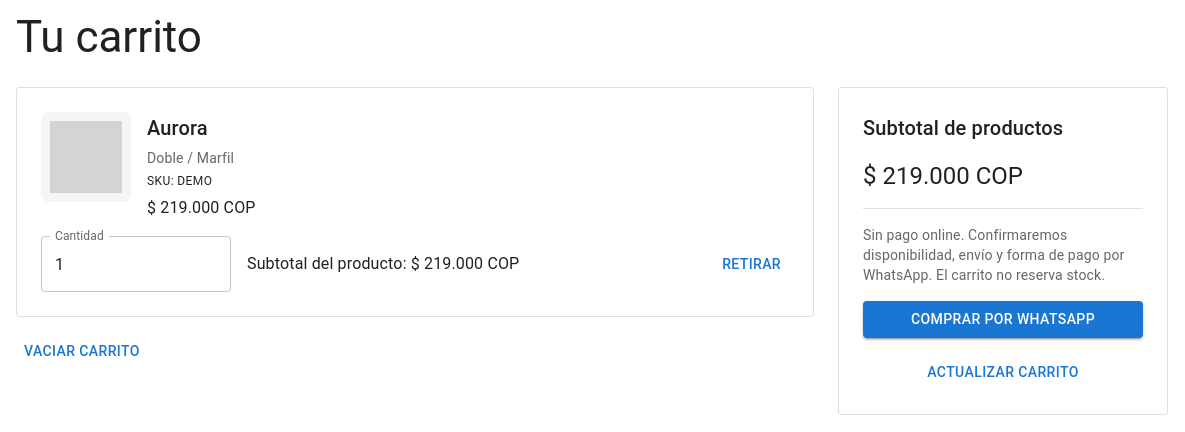
Test: guest cart UI and persistence › requires fixing invalid quantity drafts before preparing a message
Replace the text in the number field with "0" at (136, 264), box [41,236,231,292]
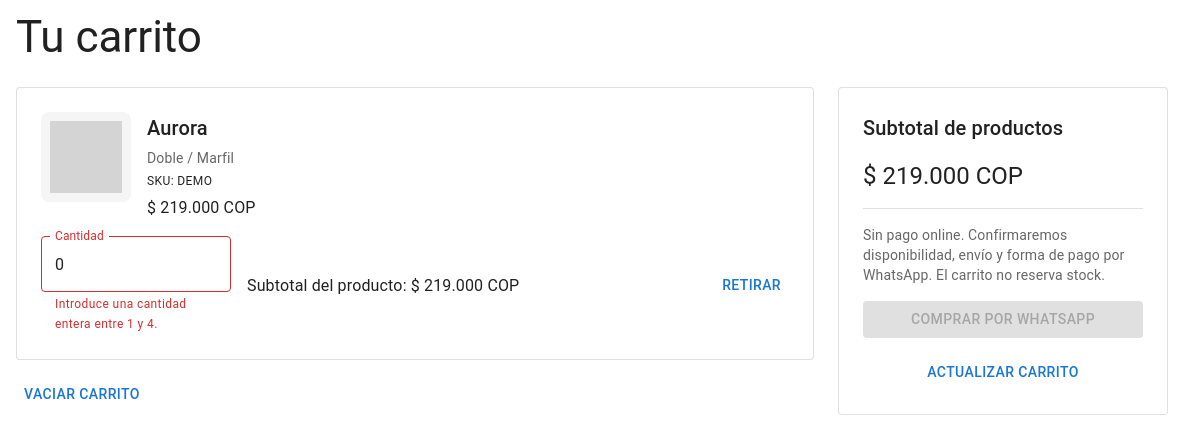
Expected: the button "Comprar por WhatsApp" is disabled, [863,301,1143,338]
Replace the text in the number field with "1" at (136, 264), box [41,236,231,292]
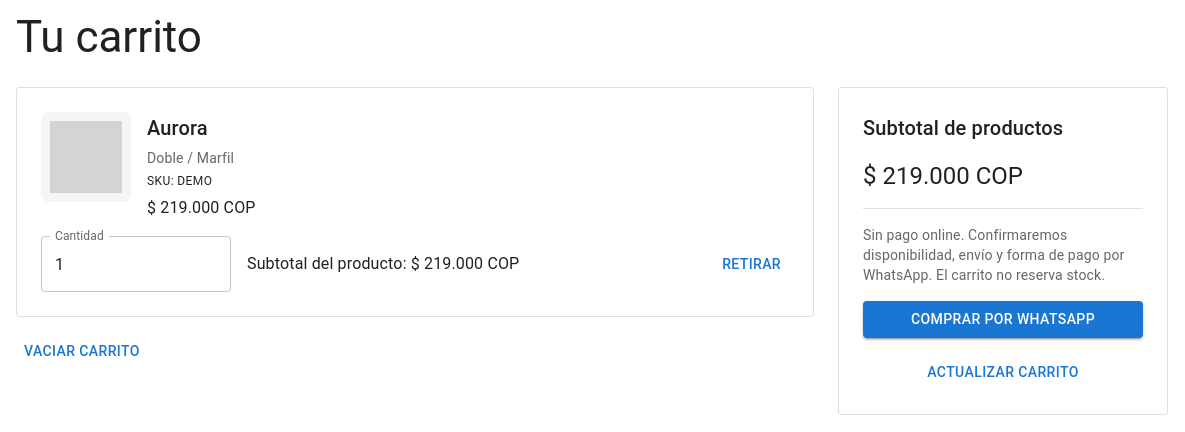
Expected: the button "Comprar por WhatsApp" is enabled, [863,301,1143,338]
